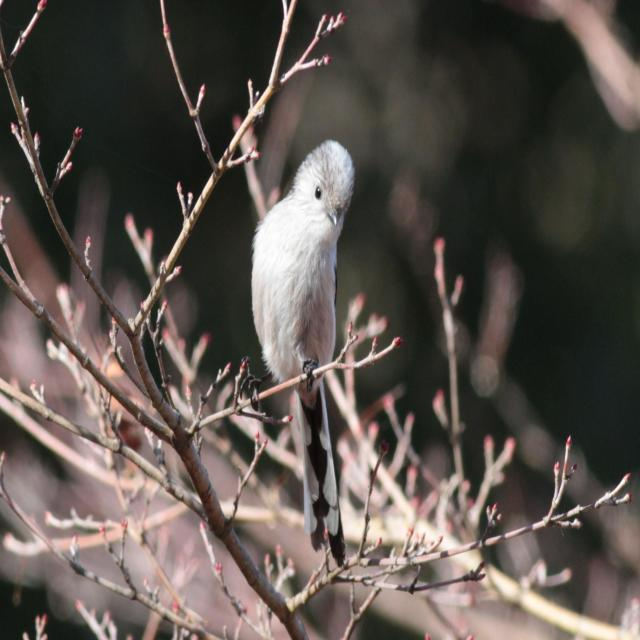bird: (246, 137, 360, 558)
